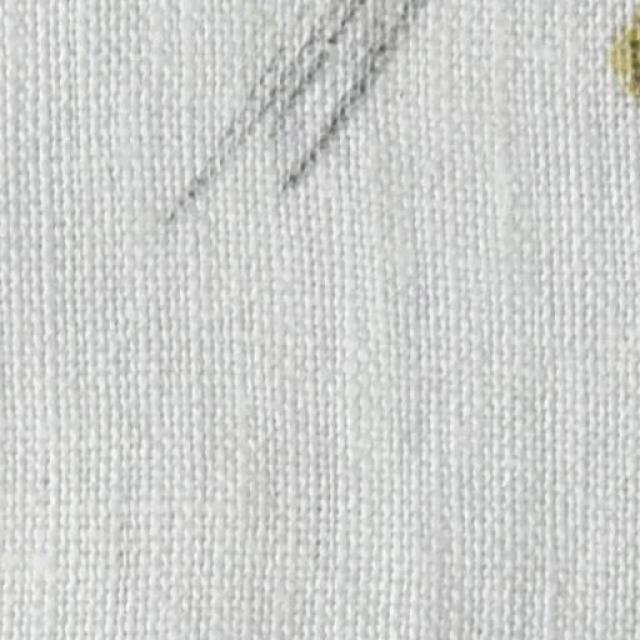Stain: (156, 0, 430, 229), (594, 0, 640, 95)
